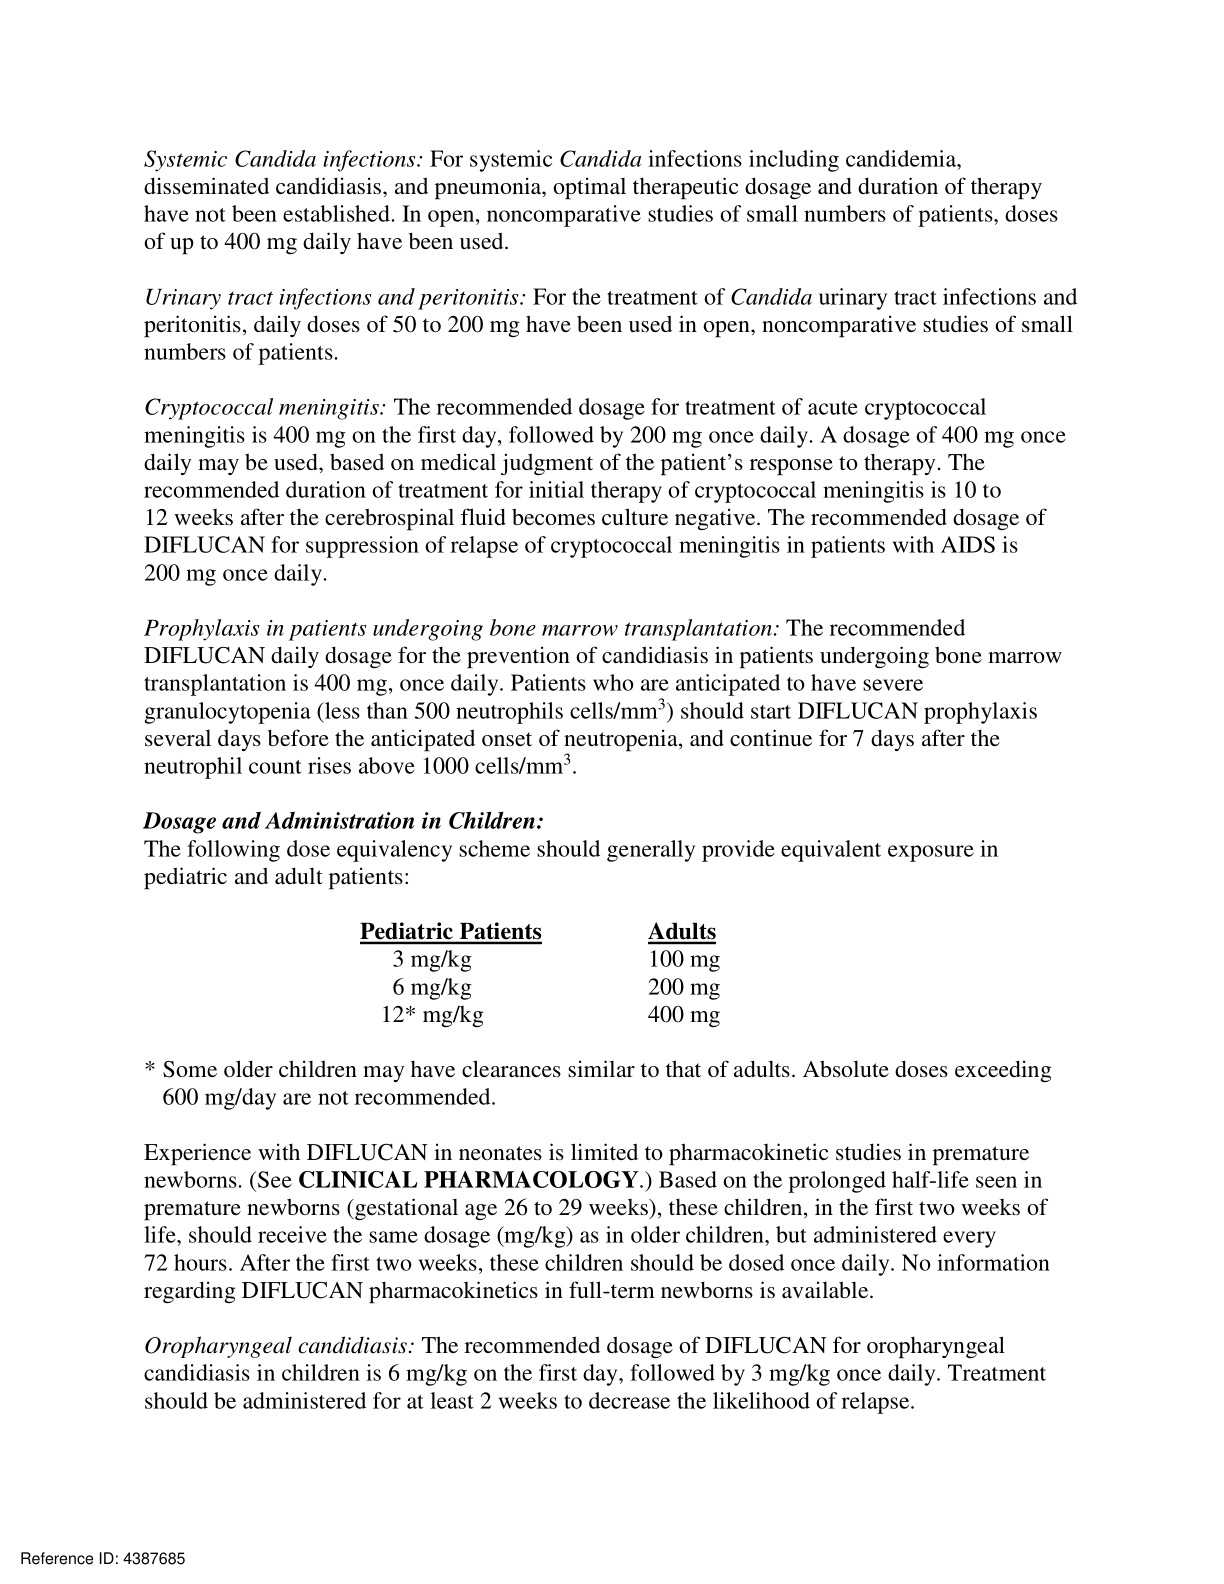nolines: (359, 918, 726, 1029)
